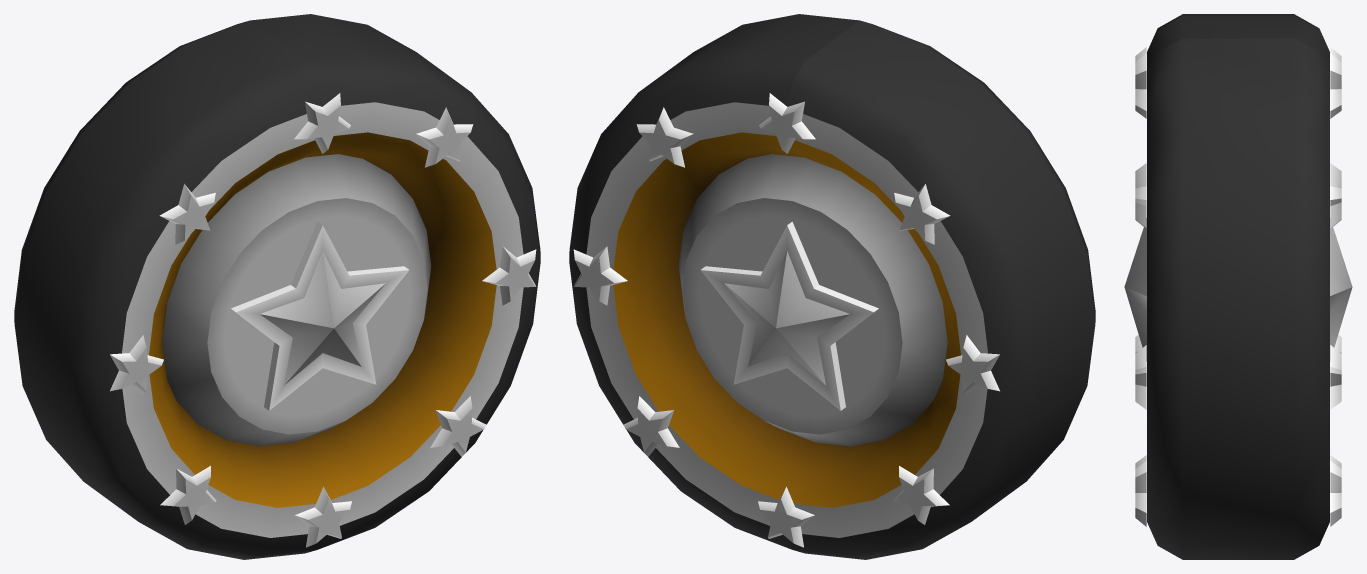
File: obj_dekotora_bigwheel.fbx
The picture shows the model from 3 angles, left to right: view 1: azimuth 30°, elevation 25°; view 2: azimuth 150°, elevation 25°; view 3: azimuth 270°, elevation 25°; orthographic projection.
Visible parts, largest first — view 1: Cylinder.015, Cylinder.030; view 2: Cylinder.015, Cylinder.030; view 3: Cylinder.030, Cylinder.015.
Part boxes in pixels (box(x1,y1,x2,y2)): Cylinder.015: box(70, 93, 536, 547); Cylinder.030: box(14, 14, 540, 559); Cylinder.015: box(573, 93, 1039, 547); Cylinder.030: box(569, 14, 1095, 559); Cylinder.030: box(1147, 14, 1329, 559); Cylinder.015: box(1124, 47, 1352, 526).
Size of the model in its own units: 3 by 3 by 1.25.
